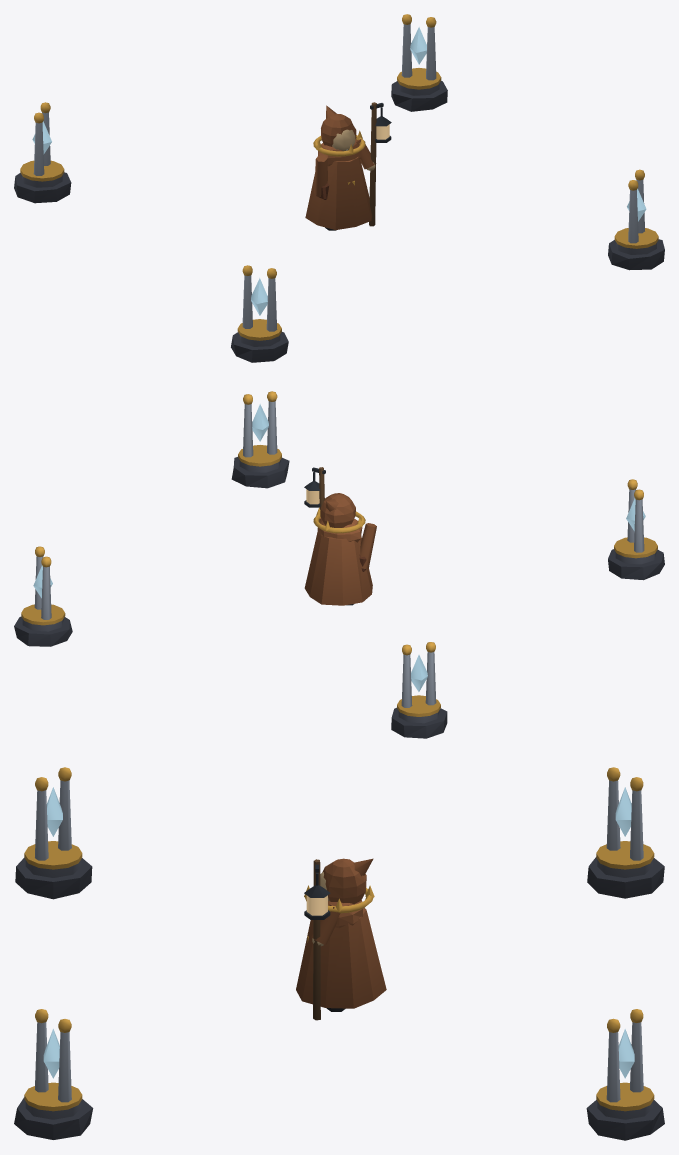
File: objective.glb
The picture shows the model from 3 angles, top to bottom: view 1: azimuth 30°, elevation 25°; view 2: azimuth 150°, elevation 25°; view 3: azimuth 270°, elevation 25°; orthographic projection. The views are drawn at different scales.
Visible parts, largest first — view 1: shieldBase, human; view 2: shieldBase, human; view 3: shieldBase, human.
Part boxes in pixels (left/top/right/bottom): shieldBase: left=14, top=14, right=664, bottom=362; human: left=305, top=102, right=391, bottom=230; shieldBase: left=14, top=391, right=664, bottom=738; human: left=304, top=467, right=376, bottom=605; shieldBase: left=14, top=767, right=664, bottom=1140; human: left=296, top=858, right=386, bottom=1020.
Bounding box in the file's own units: 222 × 60.04 × 222.
